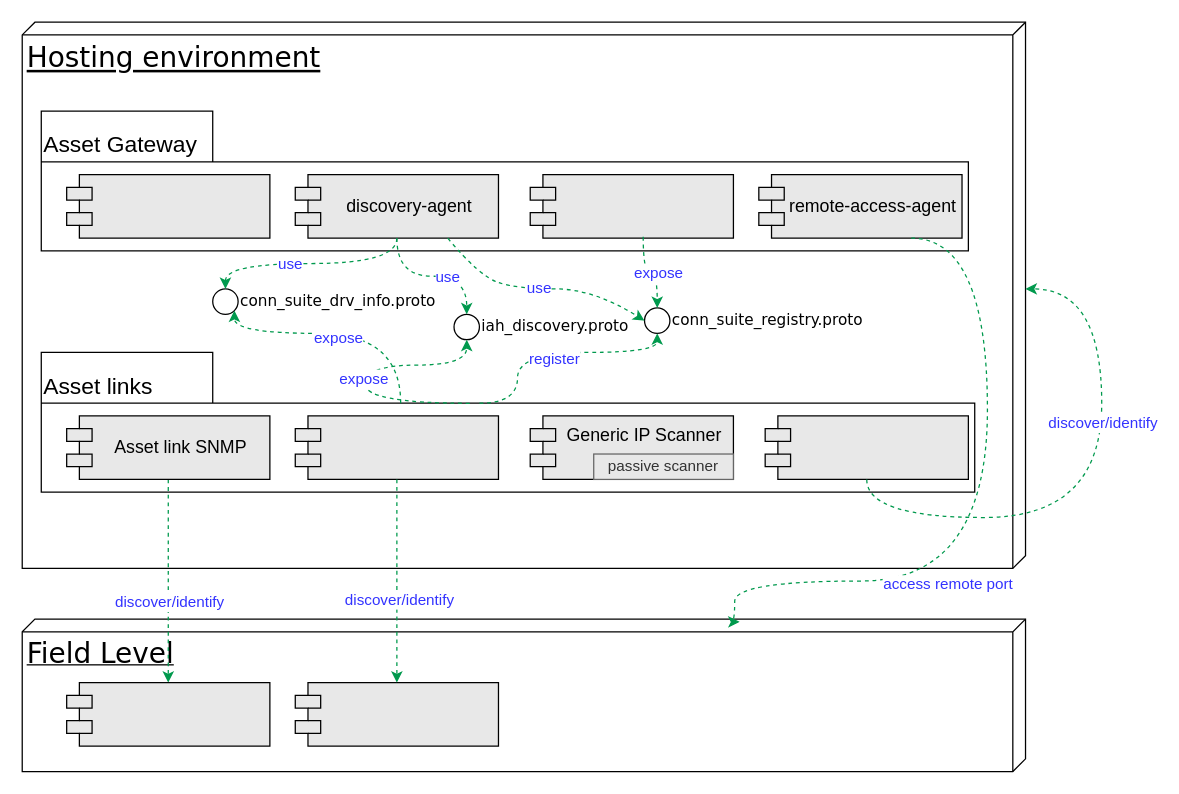
This 1179x794 diagram has some shape labels left out. Here are the shapes that lost their labels. From the top down, the centre of each, then its label:
At (167,205): "auth-proxy-agent".
At (631,205): "grpc-server-registry".
At (396,447): "Custom Asset link".
At (866,447): "Host Asset Link".
At (167,713): "SNMP Asset".
At (396,713): "Custom Asset".
